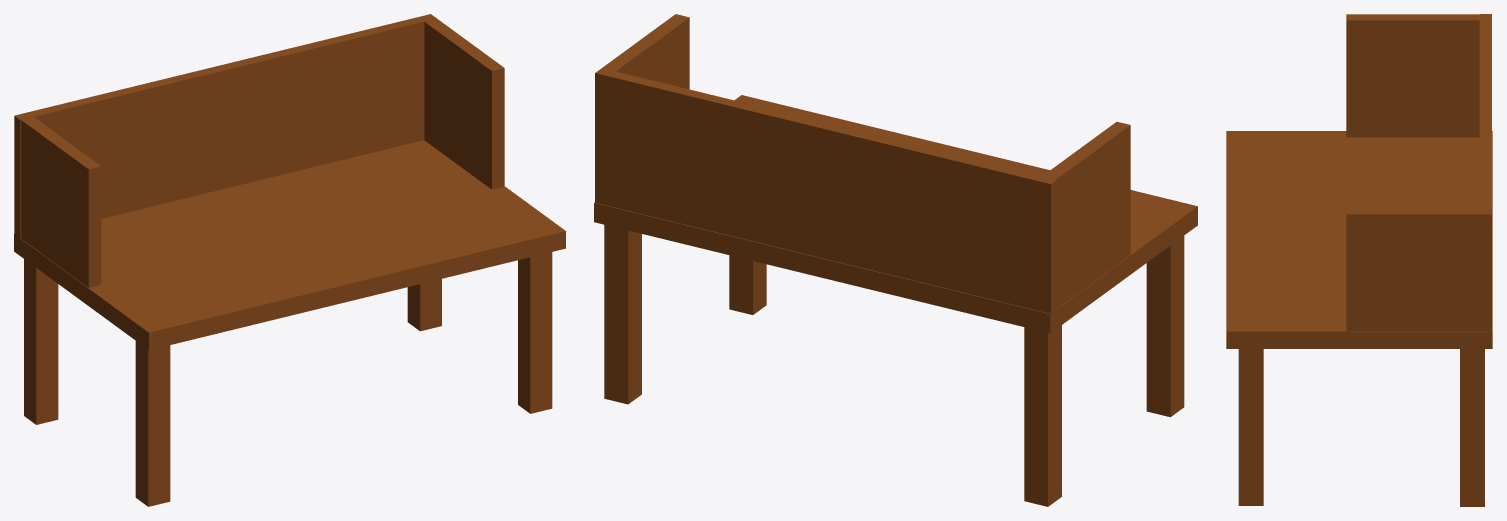
File: craft_table.fbx
3 renders of one model, left to right at view 1: azimuth 30°, elevation 25°; view 2: azimuth 150°, elevation 25°; view 3: azimuth 270°, elevation 25°, orthographic. The views are drawn at different scales.
Visible parts, largest first — view 1: 立方体, 立方体.001; view 2: 立方体.001, 立方体; view 3: 立方体, 立方体.001.
Part boxes in pixels (x1=…): 立方体: x1=14, y1=140, x2=565, y2=506; 立方体.001: x1=14, y1=14, x2=504, y2=287; 立方体.001: x1=595, y1=14, x2=1130, y2=313; 立方体: x1=594, y1=95, x2=1197, y2=506; 立方体: x1=1226, y1=131, x2=1492, y2=506; 立方体.001: x1=1346, y1=14, x2=1491, y2=331.
Bounding box in the file's own units: 2192 × 1501 × 1227.
